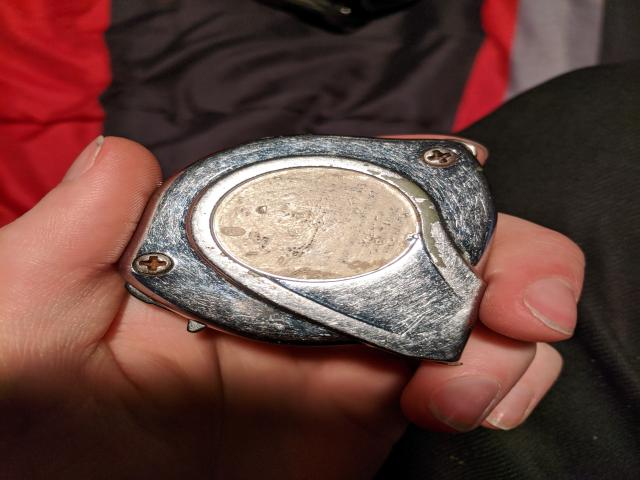CRS: (420, 144, 461, 167), (132, 253, 174, 275)
